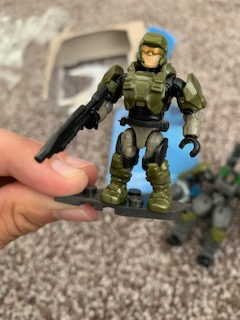armor: (122, 62, 174, 116)
down: (83, 31, 208, 214)
helmet: (133, 34, 172, 71)
rifle: (35, 84, 109, 166)
troop: (85, 33, 210, 216)
